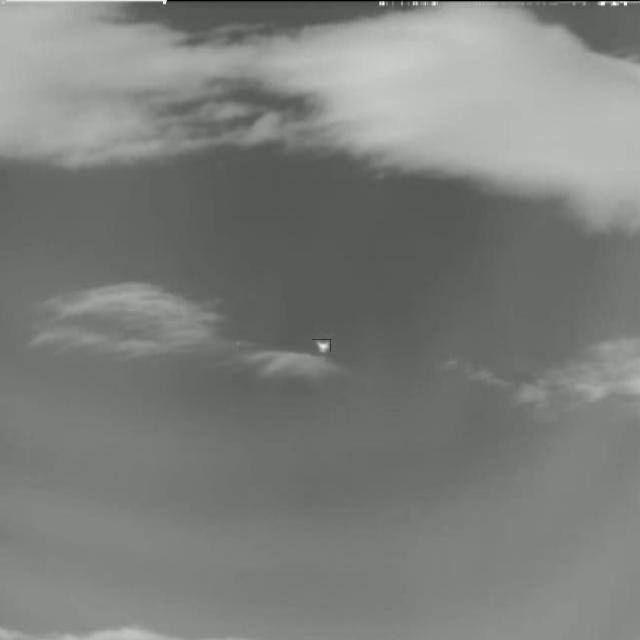drone: (312, 339, 331, 352)
